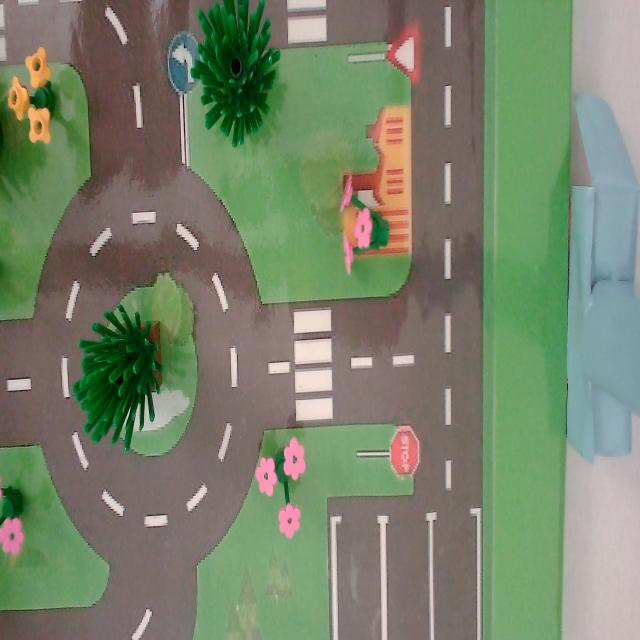Flower: (0, 21, 82, 171), (324, 157, 401, 279), (253, 422, 319, 542), (0, 459, 37, 567)
Tree: (182, 0, 300, 161), (67, 291, 168, 442)
